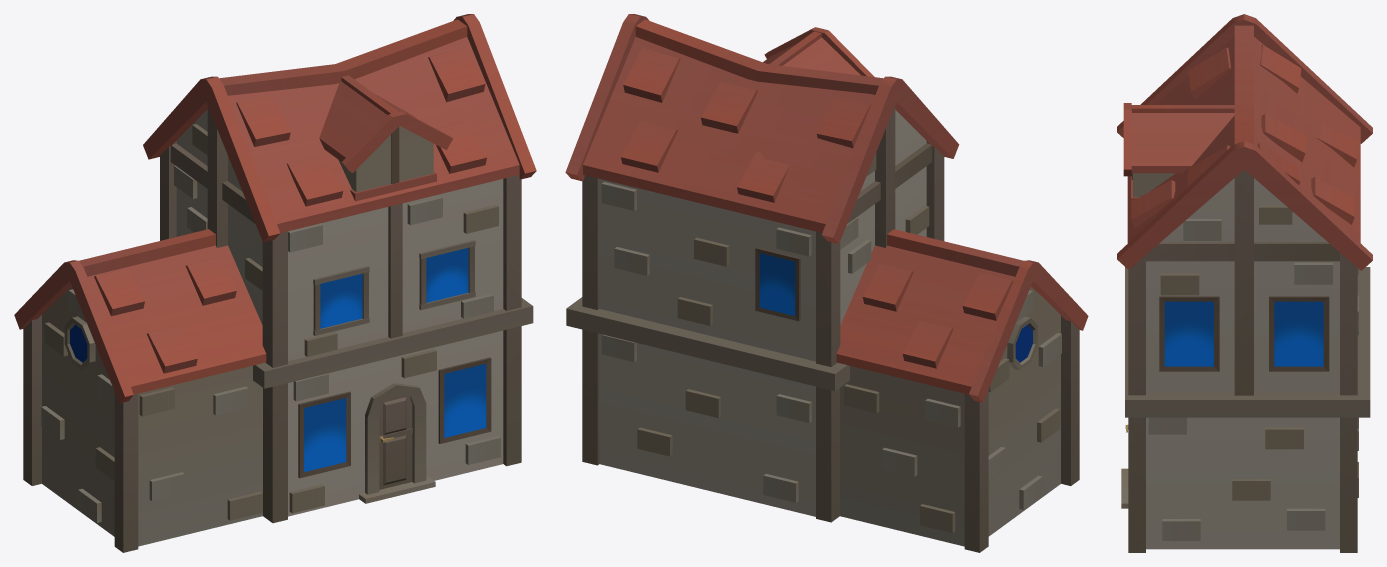
File: SM_House_8.FBX
3 renders of one model, left to right at view 1: azimuth 30°, elevation 25°; view 2: azimuth 150°, elevation 25°; view 3: azimuth 270°, elevation 25°, orthographic.
Visible parts, largest first — view 1: SM_House_8; view 2: SM_House_8; view 3: SM_House_8.
Part boxes in pixels (x1,y1,x2,y2): SM_House_8: (14,14,536,552); SM_House_8: (565,14,1088,552); SM_House_8: (1117,14,1372,552).
Size of what is drawn, in the model's own units: 866 by 467 by 827.
